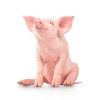heo: (21, 7, 74, 50)
